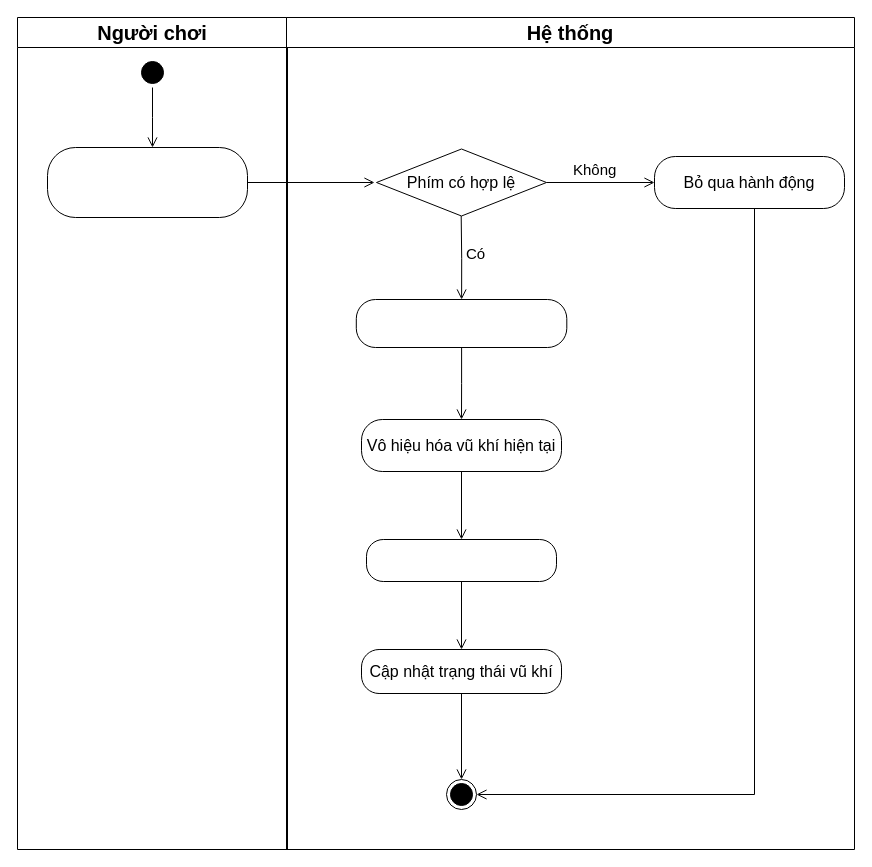
Some shapes in this 872 by 867 pixel diagram are drawn without their labels. The centre of each missing label's shape, as x and y in pixels:
"Kích hoạt vũ khí mới" belongs at (461,560).
"Người chơi nhấn phím số (1, 2, 3)" belongs at (147,182).
"Xác định vũ khí tương ứng" belongs at (461,323).
